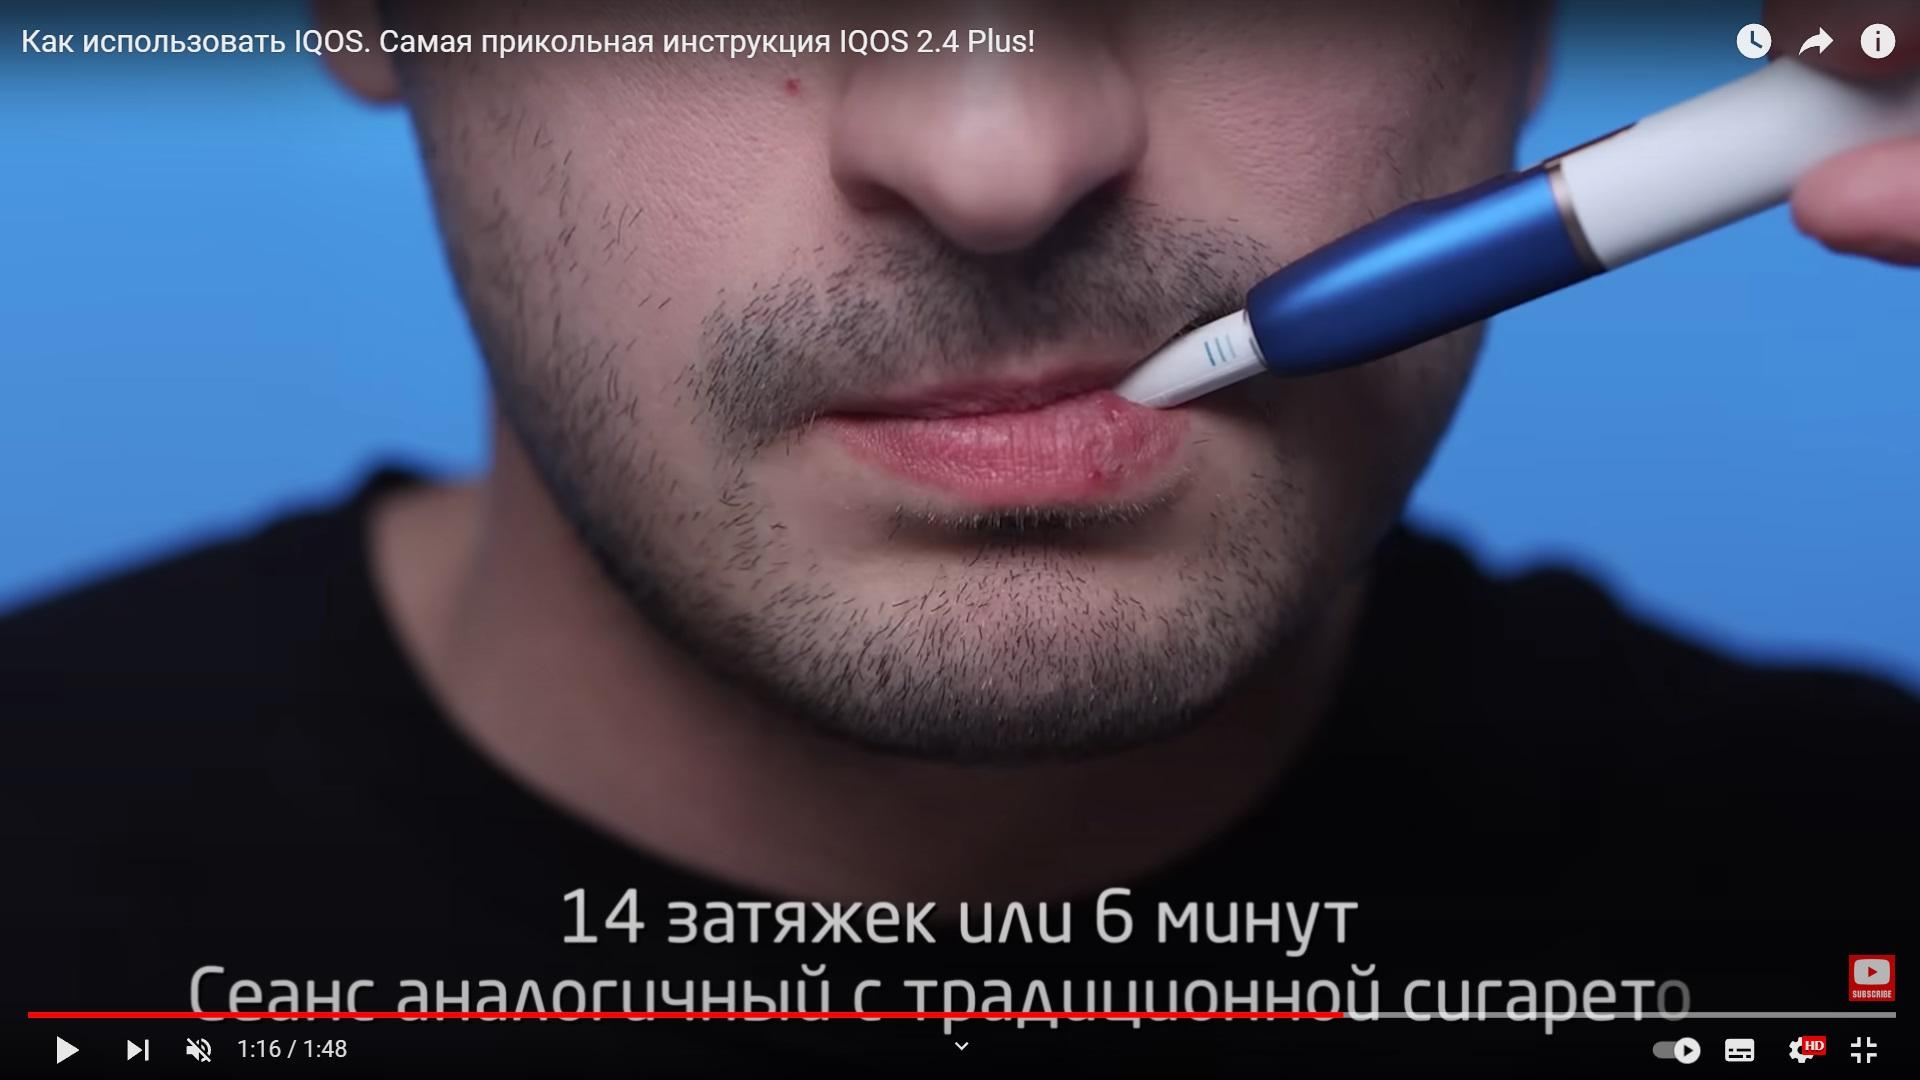iqos: (1118, 58, 1919, 405)
